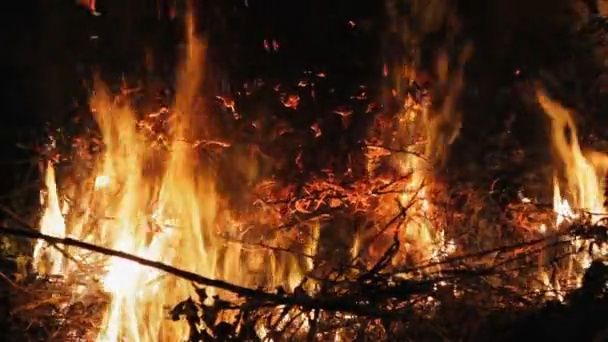fire: (69, 88, 246, 342), (254, 224, 354, 342), (533, 96, 608, 229), (389, 156, 453, 264), (537, 239, 608, 295), (36, 164, 67, 275)
